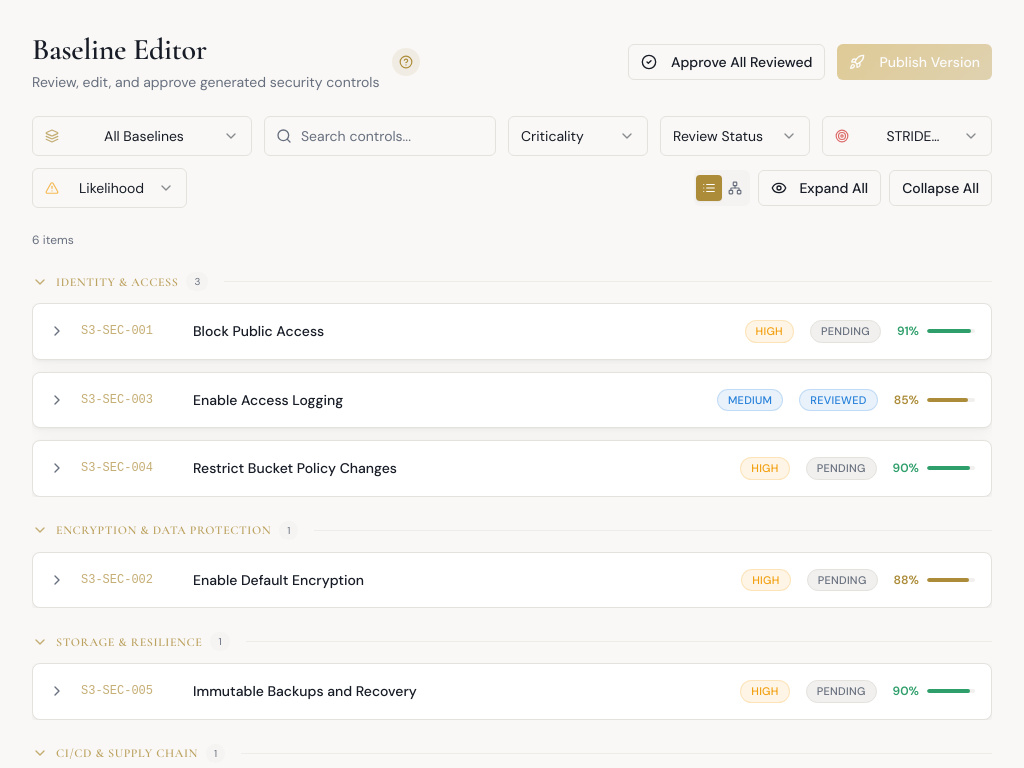
Test: BaselineEditor › Threat Modeling section › renders threat modeling header when control is expanded
Expected: the text "S3-SEC-001" is shown, [81, 324, 153, 338]
Step 1. Click the button "S3-SEC-001" → (117, 331), box [33, 304, 991, 358]
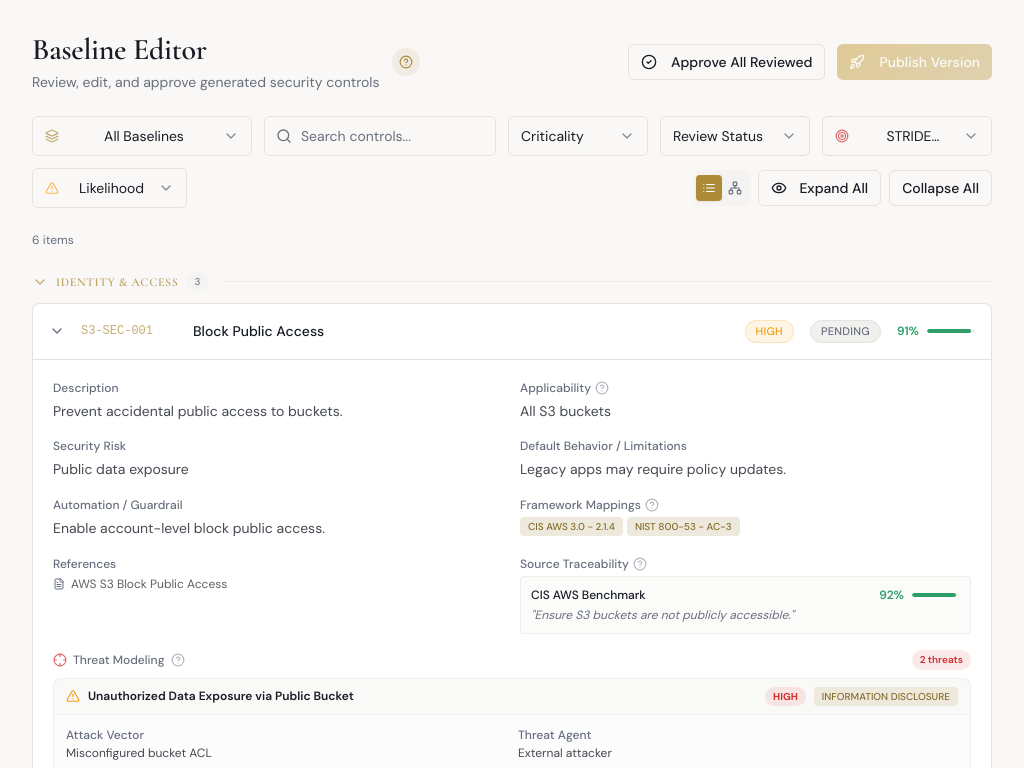
Result: the text "Threat Modeling 2 threats" is shown at [53, 650, 971, 670]
